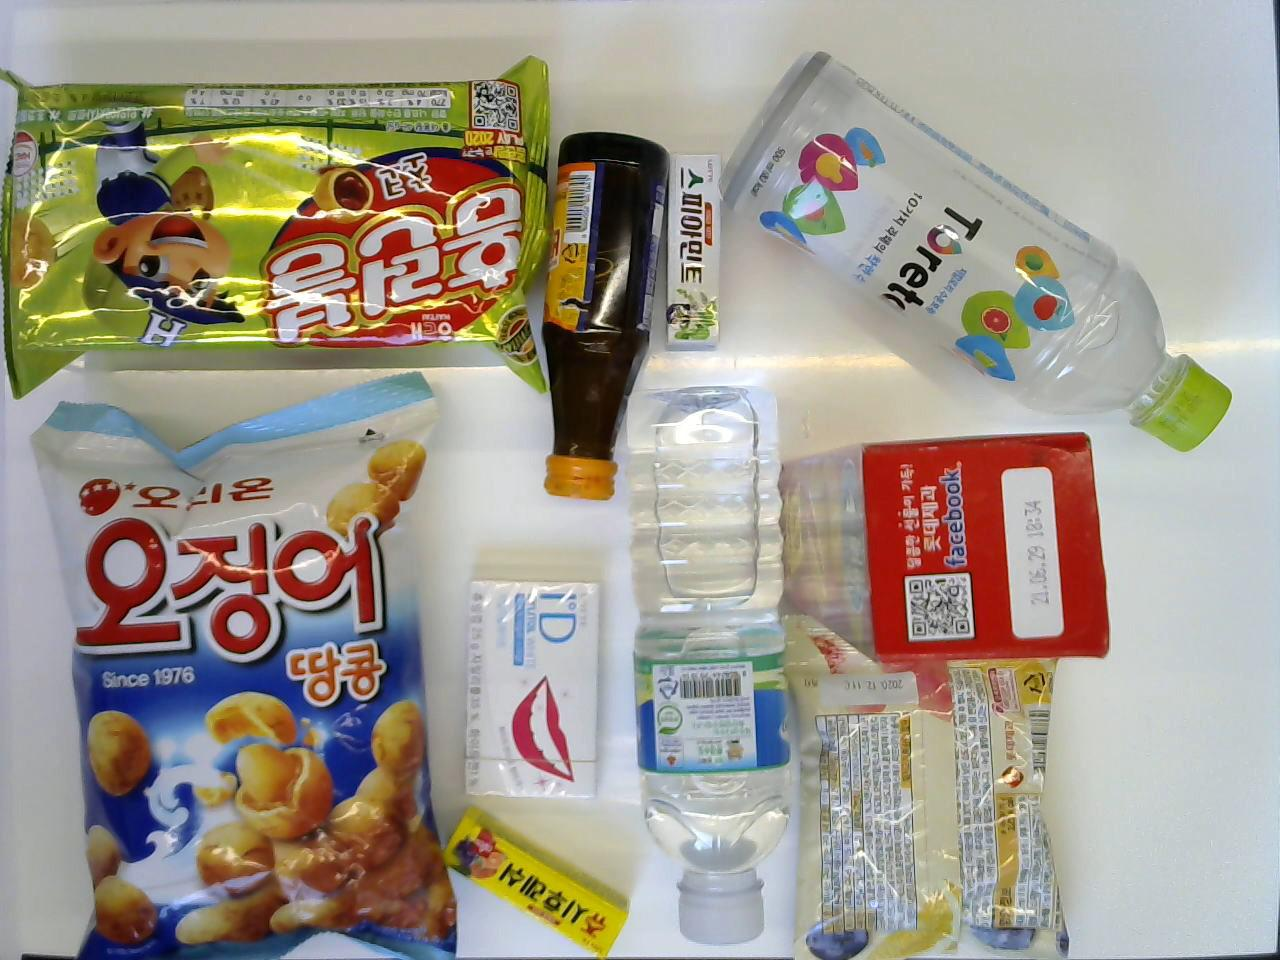ID_gum: (460, 572, 605, 804)
gumi_gumi: (788, 663, 1064, 960)
homerunball: (2, 54, 559, 397)
juicyfresh: (439, 810, 625, 958)
samdasu: (621, 383, 793, 944)
spearmint: (659, 148, 727, 352)
squid_peanut: (28, 363, 456, 960)
toreta: (717, 44, 1234, 457)
vita500: (539, 127, 661, 499)
zec: (860, 430, 1116, 659)
